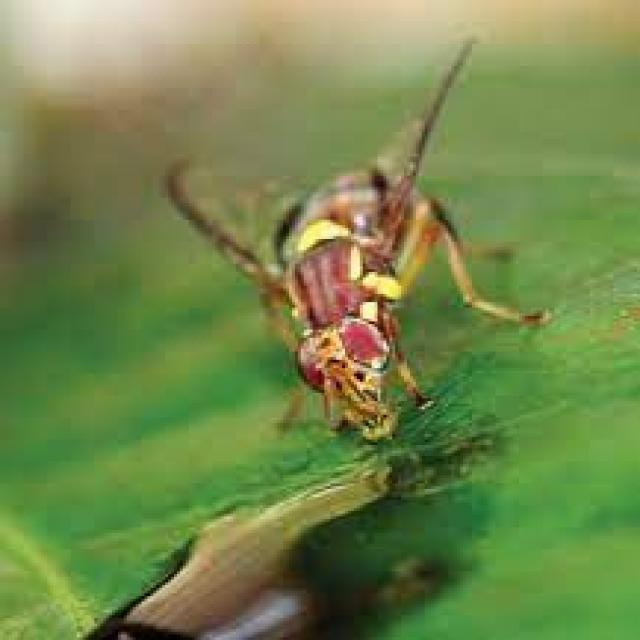Fruit fly: (157, 16, 556, 450)
